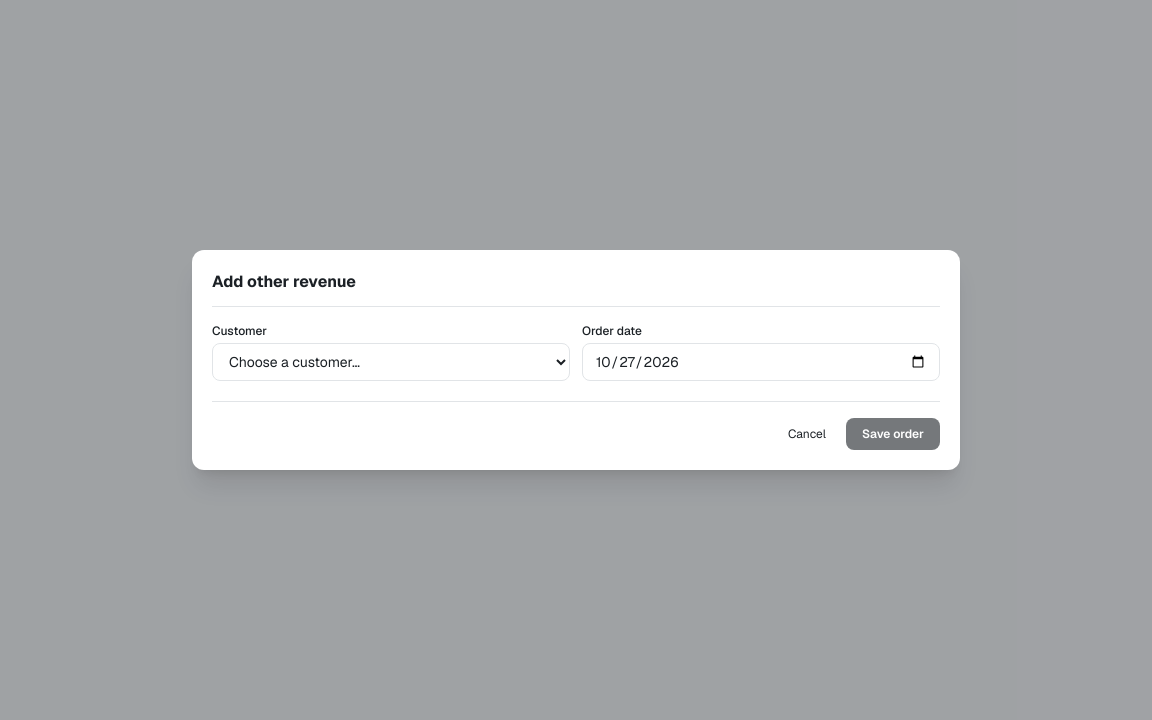
Test case: OrderModal › highlights a product with no agreed price and offers to remember it
Select "Nordic Retail AS - Mazzetti.no (EUR)" in the dropdown labelled "Customer". click: (391, 362)
box: x1=212 y1=343 x2=570 y2=381
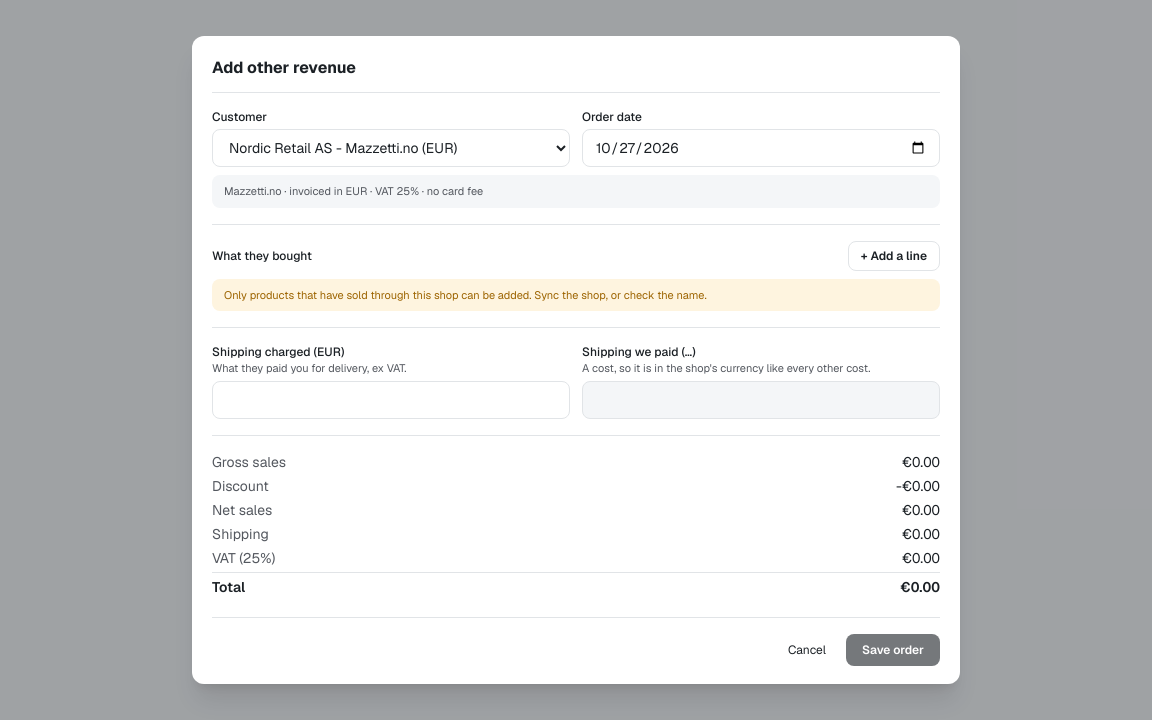
Click the button "+ Add a line". click: (894, 256)
box: x1=848 y1=240 x2=940 y2=270
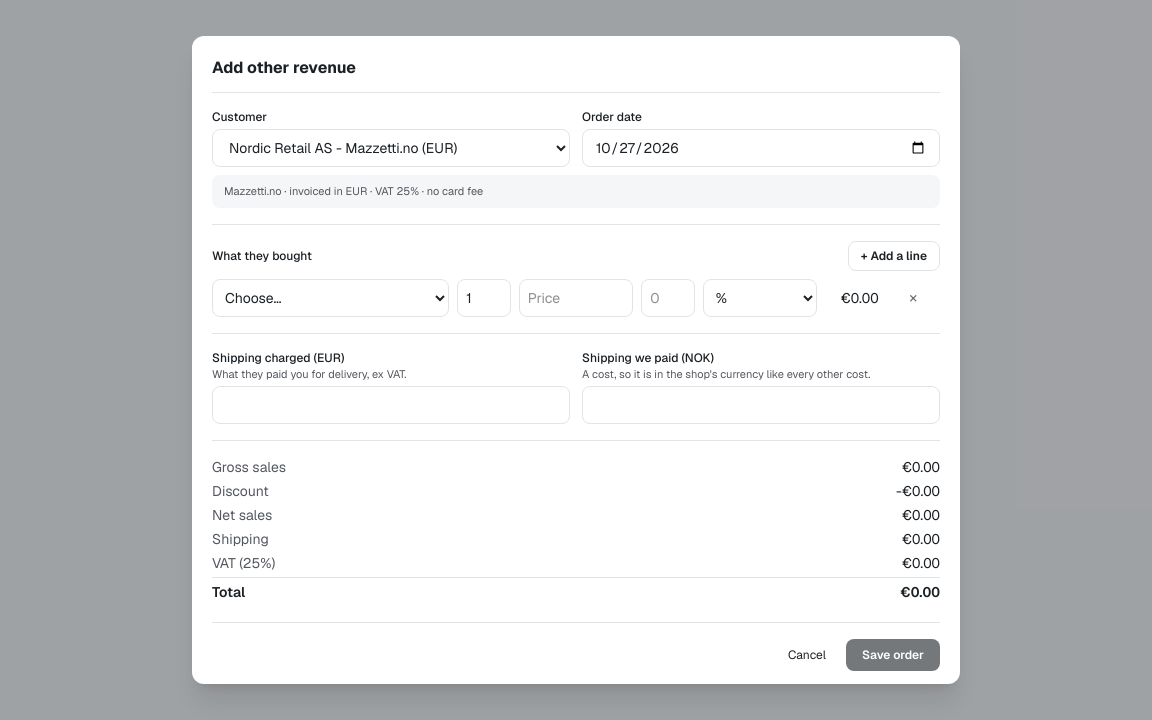
Select "Belt (SKU-2)" in the dropdown named "Product 1". click: (331, 298)
box: x1=212 y1=278 x2=449 y2=316
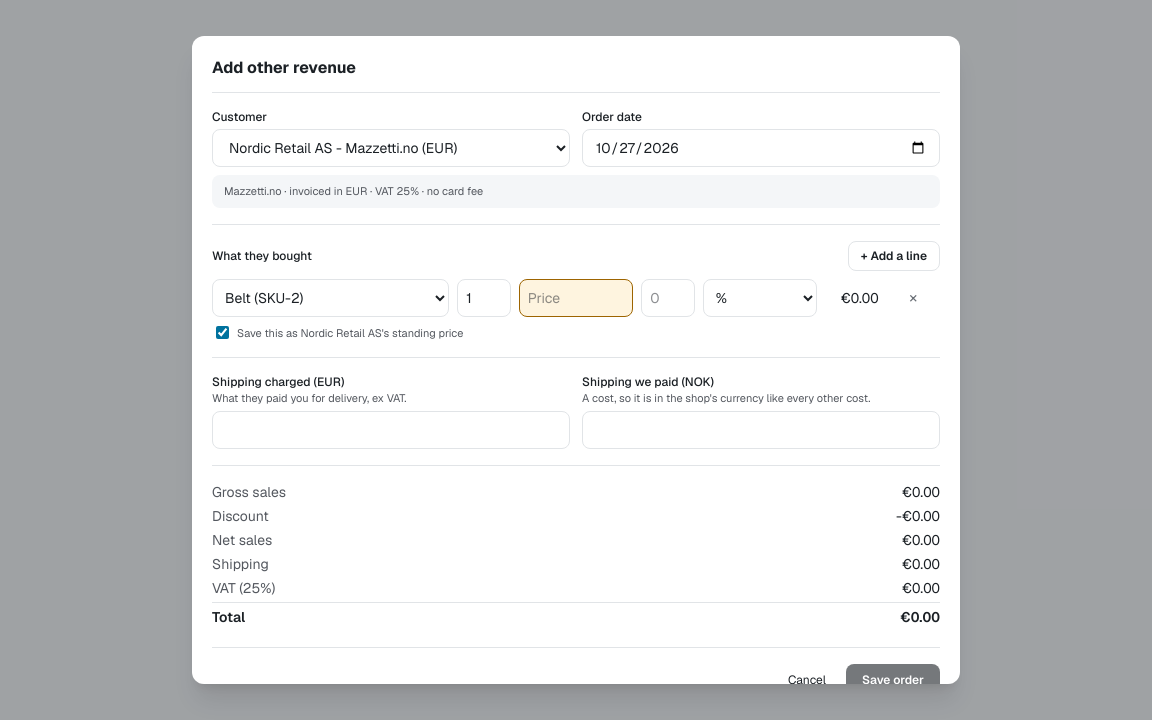
Expected: the number field named "Unit price 1" is not empty, x1=519 y1=278 x2=633 y2=316
Expected: the checkbox named "Save price 1" is shown, x1=216 y1=326 x2=229 y2=339
